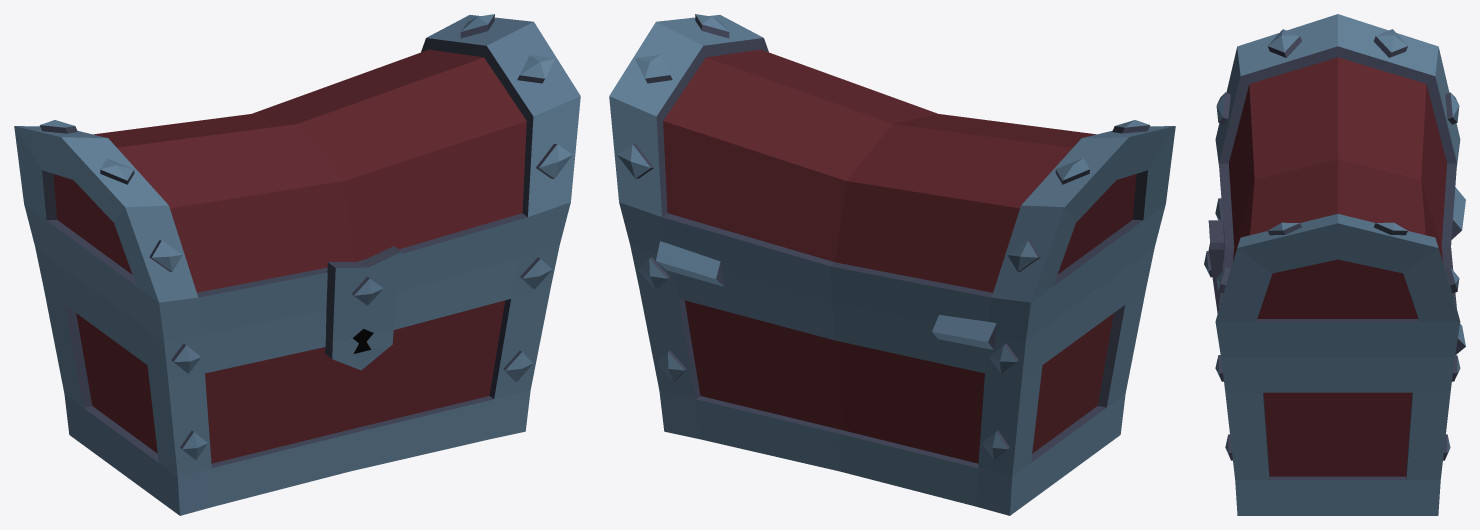
File: Mesh_TreasureChest_B_Closed.fbx
3 renders of one model, left to right at view 1: azimuth 30°, elevation 25°; view 2: azimuth 150°, elevation 25°; view 3: azimuth 270°, elevation 25°, orthographic. The views are drawn at different scales.
Parts seen in each view (by area): view 1: SM_TreasureChest_B_Closed; view 2: SM_TreasureChest_B_Closed; view 3: SM_TreasureChest_B_Closed.
Part boxes in pixels (left/top/right/bottom): SM_TreasureChest_B_Closed: left=14, top=14, right=580, bottom=515; SM_TreasureChest_B_Closed: left=609, top=14, right=1175, bottom=515; SM_TreasureChest_B_Closed: left=1204, top=14, right=1465, bottom=515.
Bounding box in the file's own units: 1.31 × 0.9392 × 0.695.
